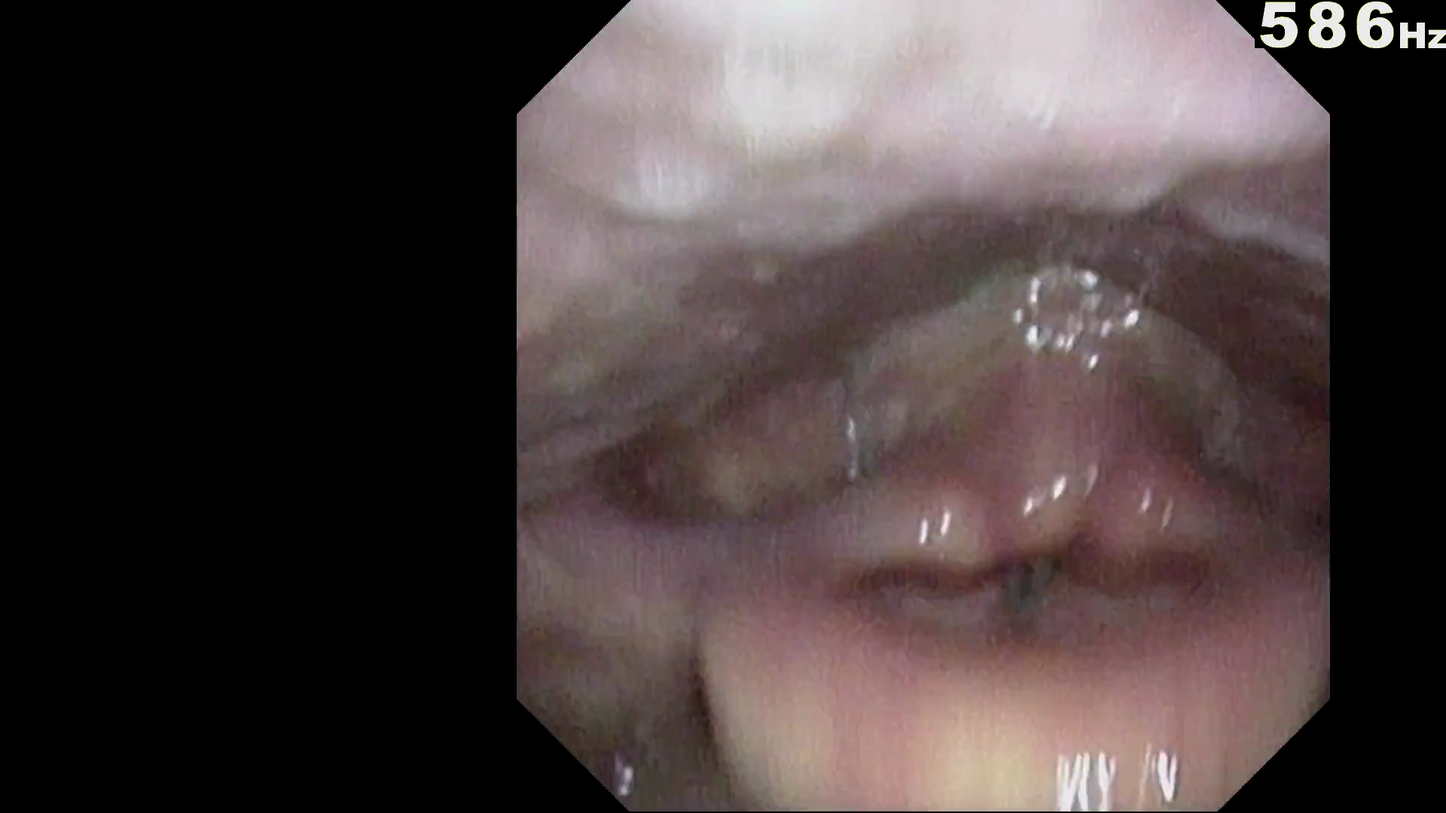epiglottis: (687, 458, 1290, 655)
trachea: (982, 539, 1103, 659)
